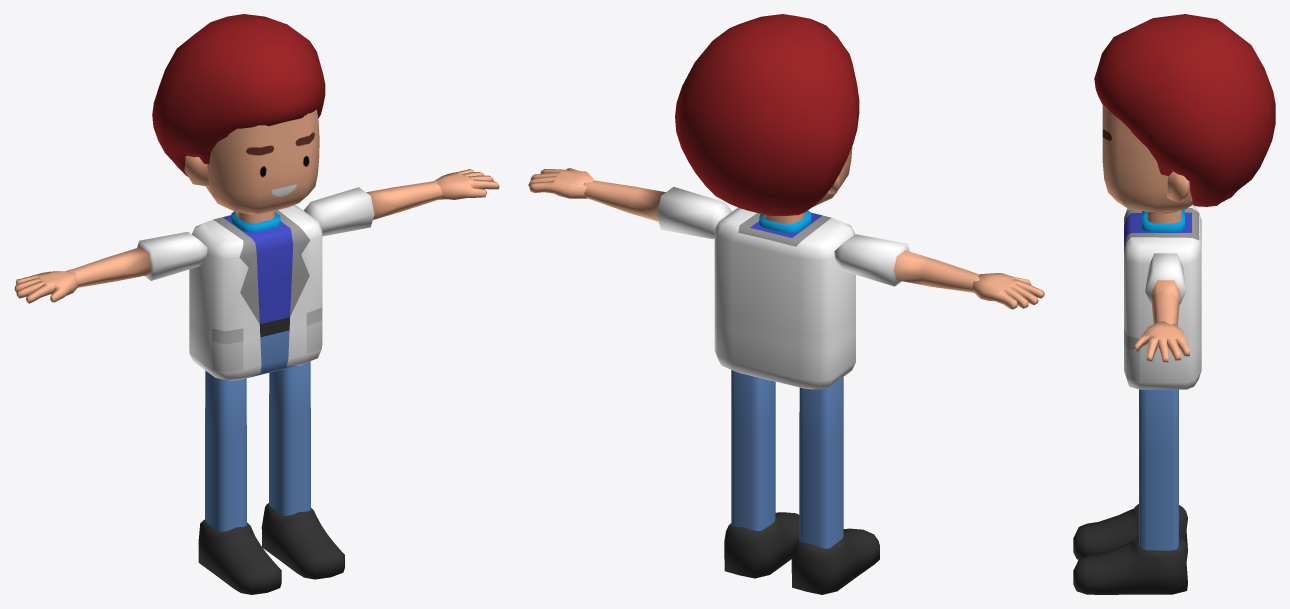
Rendered from NPC_White02_RedHair01.gltf.
3 renders of one model, left to right at view 1: azimuth 30°, elevation 25°; view 2: azimuth 150°, elevation 25°; view 3: azimuth 270°, elevation 25°, orthographic. The views are drawn at different scales.
Parts seen in each view (by area): view 1: NPC_Corpo_White2_RedHair.001; view 2: NPC_Corpo_White2_RedHair.001; view 3: NPC_Corpo_White2_RedHair.001.
Boxes of the visible parts, bbox=[...] form: NPC_Corpo_White2_RedHair.001: bbox=[14, 14, 499, 594]; NPC_Corpo_White2_RedHair.001: bbox=[528, 14, 1044, 594]; NPC_Corpo_White2_RedHair.001: bbox=[1073, 14, 1275, 594].
Bounding box in the file's own units: 2.31 × 2.41 × 0.8168.
Materials: 1 (1 with a texture image).
